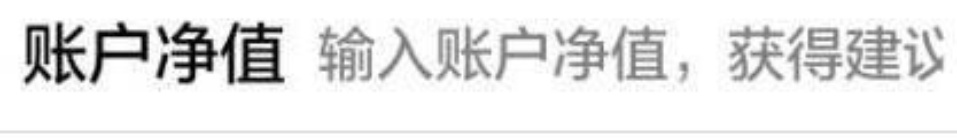EditText: (1, 1, 956, 139)
